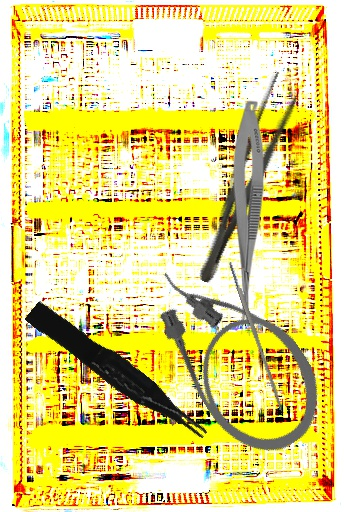Cannula: (133, 234, 341, 472)
Dressing Forceps: (187, 68, 307, 290)
Micro Scissor: (233, 100, 265, 336)
Scalpel Handle: (227, 259, 285, 413)
Tissue Forceps: (24, 293, 211, 454)
